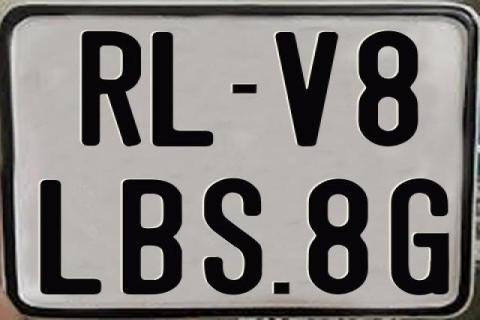0: (308, 178, 372, 294), (356, 28, 416, 146)
B: (123, 178, 187, 294)
G: (391, 178, 453, 296)
L: (37, 180, 101, 295), (150, 30, 212, 146)
R: (80, 31, 141, 148)
S: (203, 177, 267, 297)
V: (273, 31, 336, 151)
